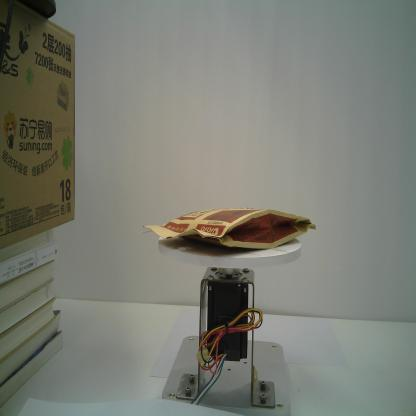Dried Food: (141, 205, 317, 252)
